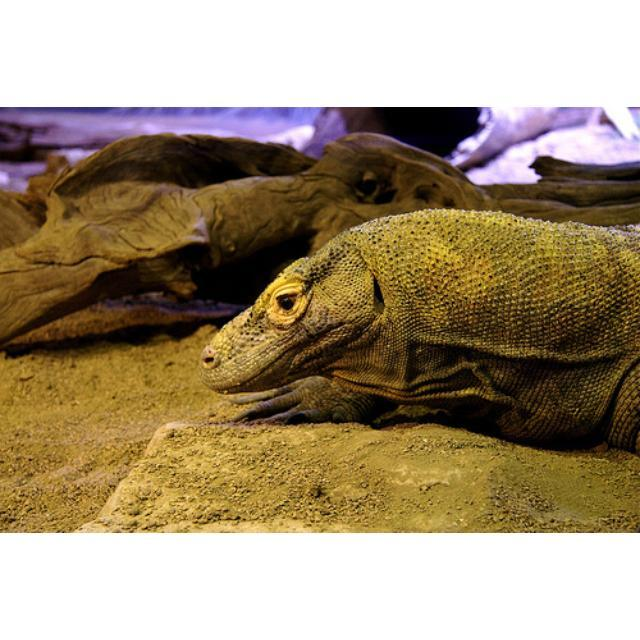KomodoDragon: (197, 206, 637, 459)
